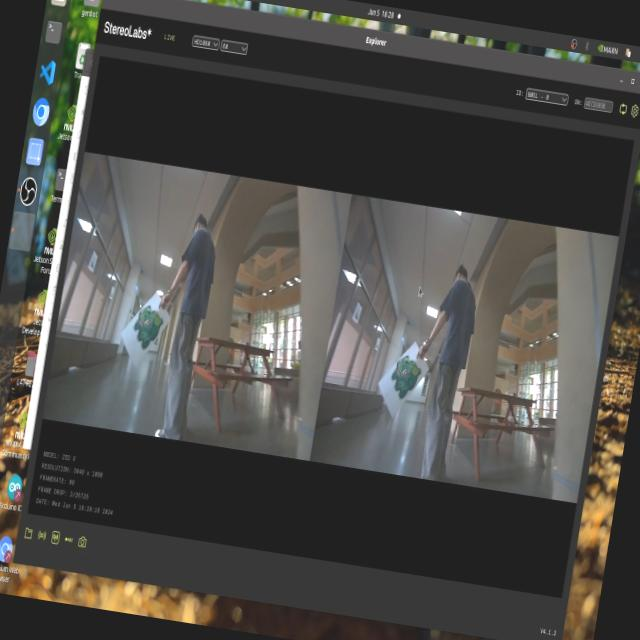green: (122, 294, 169, 350), (390, 345, 424, 406)
